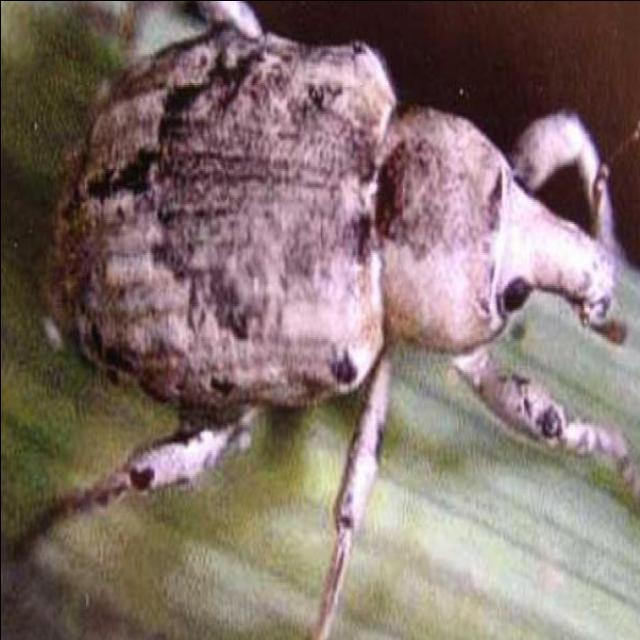ricebug: (45, 0, 640, 613)
